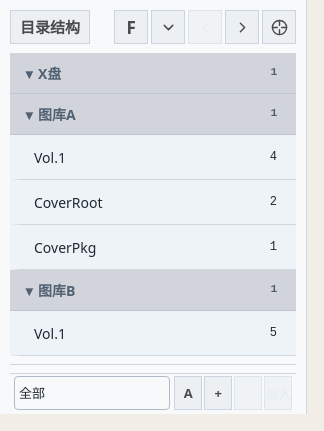
Test: SidebarPanel music interactions › 点击折叠全部按钮会折叠所有含图父级节点
Click the button named "折叠全部含图父级" at (168, 27), box [151,10,185,44]
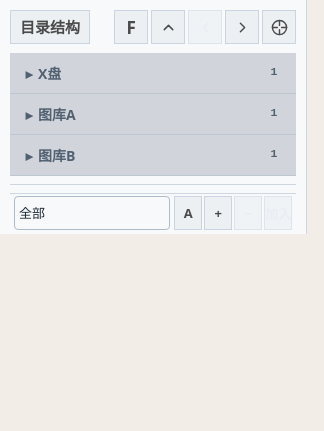
Expected: the button "CoverRoot" is gone
Expected: the button "Vol.1" is gone
Expected: the button "CoverPkg" is gone
